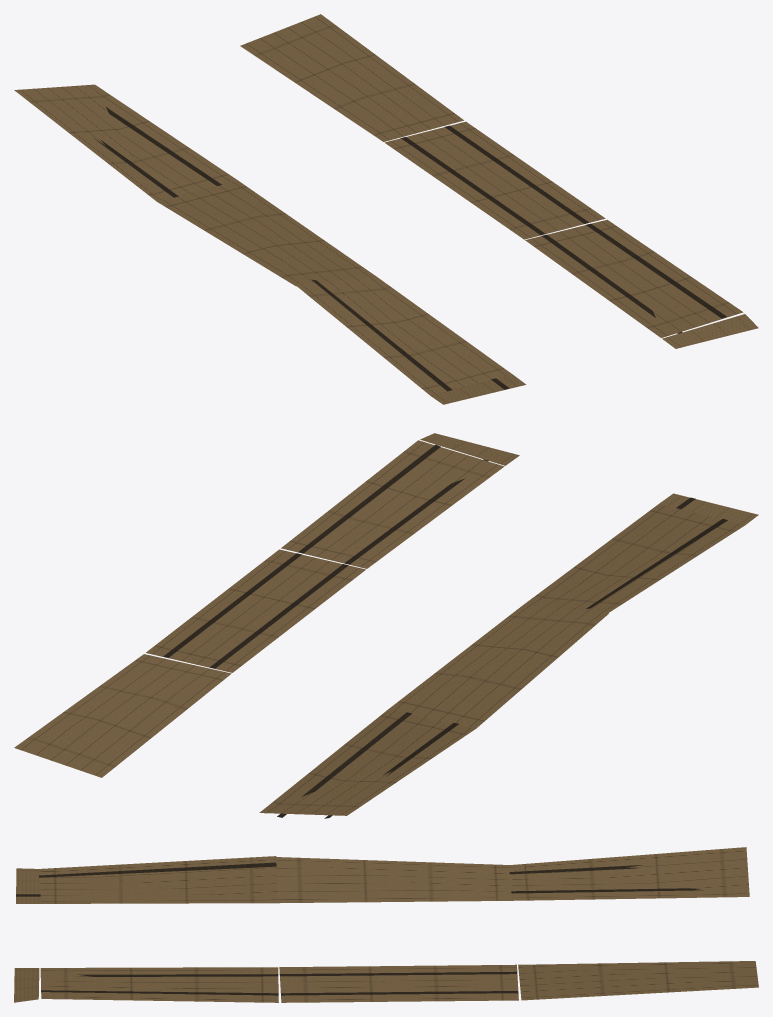
Rendered from motor-roadway.e4.glb.
3 renders of one model, top to bottom at view 1: azimuth 30°, elevation 25°; view 2: azimuth 150°, elevation 25°; view 3: azimuth 270°, elevation 25°, orthographic. The views are drawn at different scales.
Visible parts, largest first — view 1: MotorRoadwayE4; view 2: MotorRoadwayE4; view 3: MotorRoadwayE4.
Boxes of the visible parts, box(x1,y1,x2,y2) form: MotorRoadwayE4: box(14, 14, 758, 404); MotorRoadwayE4: box(14, 433, 758, 818); MotorRoadwayE4: box(14, 847, 758, 1002).
Bounding box in the file's own units: 3.43 × 0.1674 × 7.58.
1 material, 1 textured.
